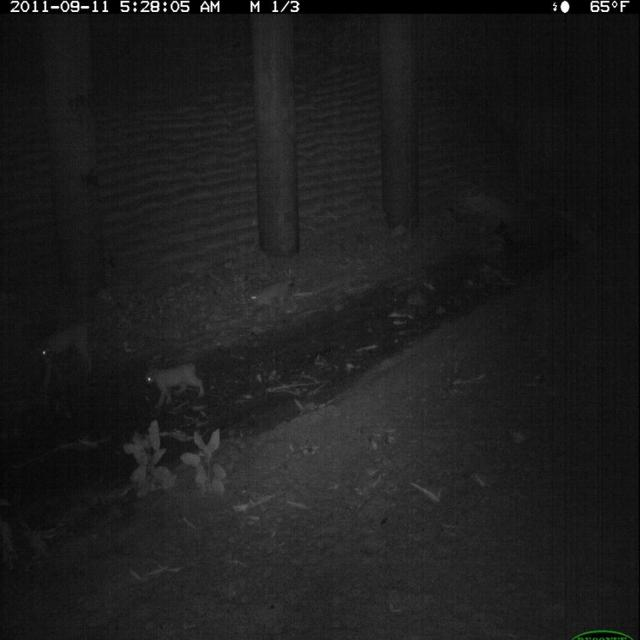bobcat: (35, 315, 102, 397), (143, 358, 208, 412), (247, 278, 302, 329)
